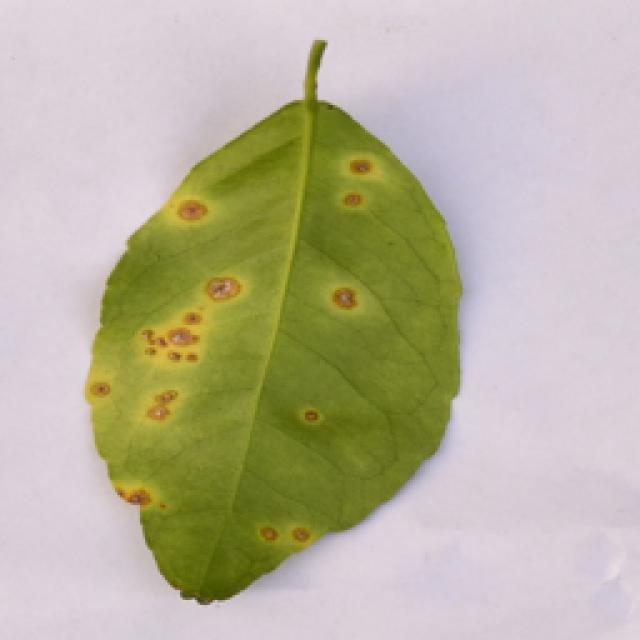canker: (80, 138, 427, 584)
